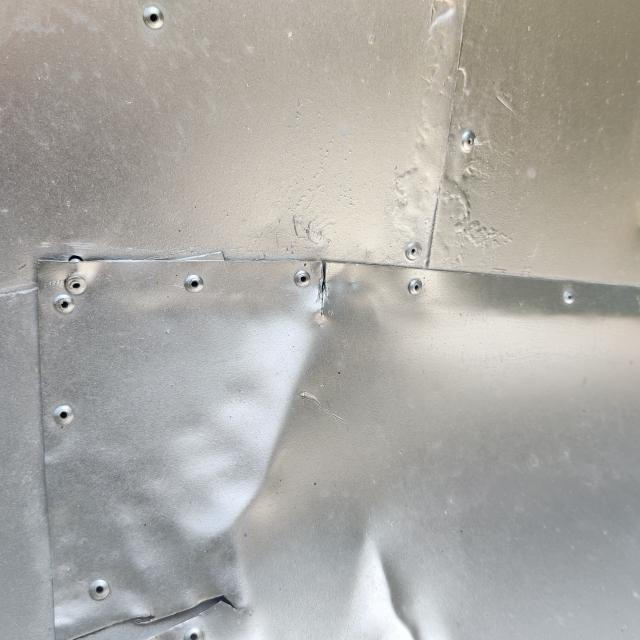crack: (65, 578, 248, 640), (307, 252, 344, 324)
dent: (136, 271, 398, 566), (320, 501, 461, 640)
